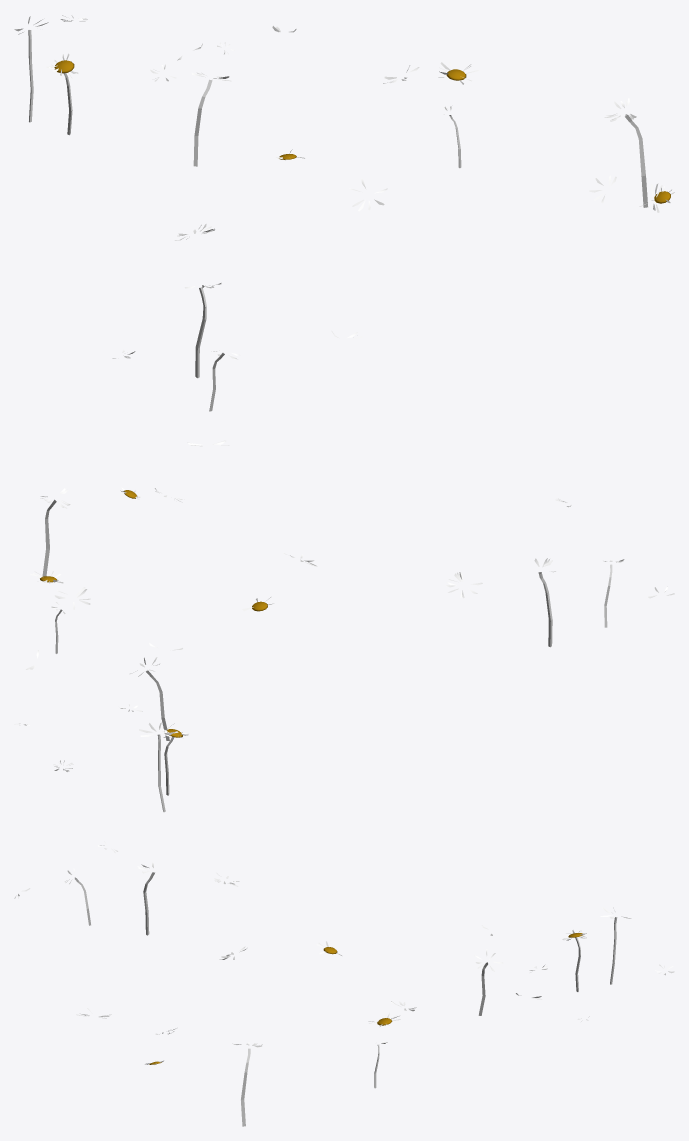
The model's file is daisies_lod1.gltf.
3 views of the same model, one above another, from view 1: azimuth 30°, elevation 25°; view 2: azimuth 150°, elevation 25°; view 3: azimuth 270°, elevation 25° (orthographic). The views are drawn at different scales.
Visible parts, largest first — view 1: Daisies; view 2: Daisies; view 3: Daisies.
Boxes of the visible parts, bbox=[...] form: Daisies: bbox=[14, 15, 674, 411]; Daisies: bbox=[14, 440, 674, 812]; Daisies: bbox=[14, 841, 674, 1126].
Bounding box in the file's own units: 0.4923 × 0.0855 × 0.5878.
